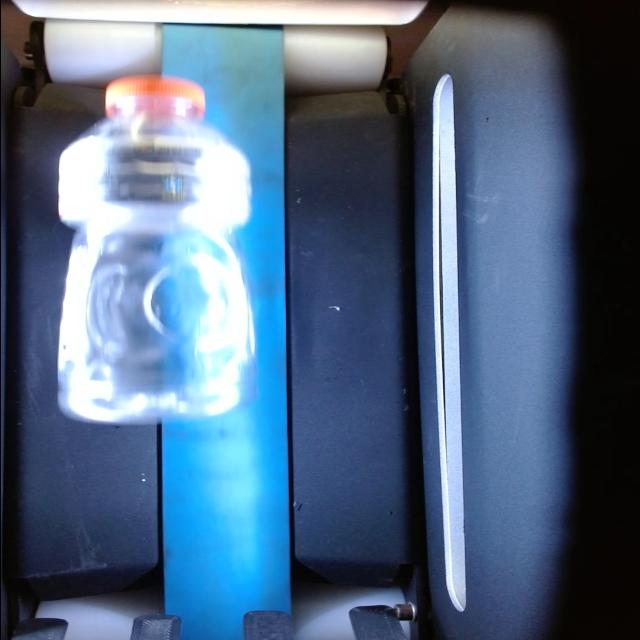bottom: (52, 376, 264, 430)
cap: (98, 72, 204, 126)
